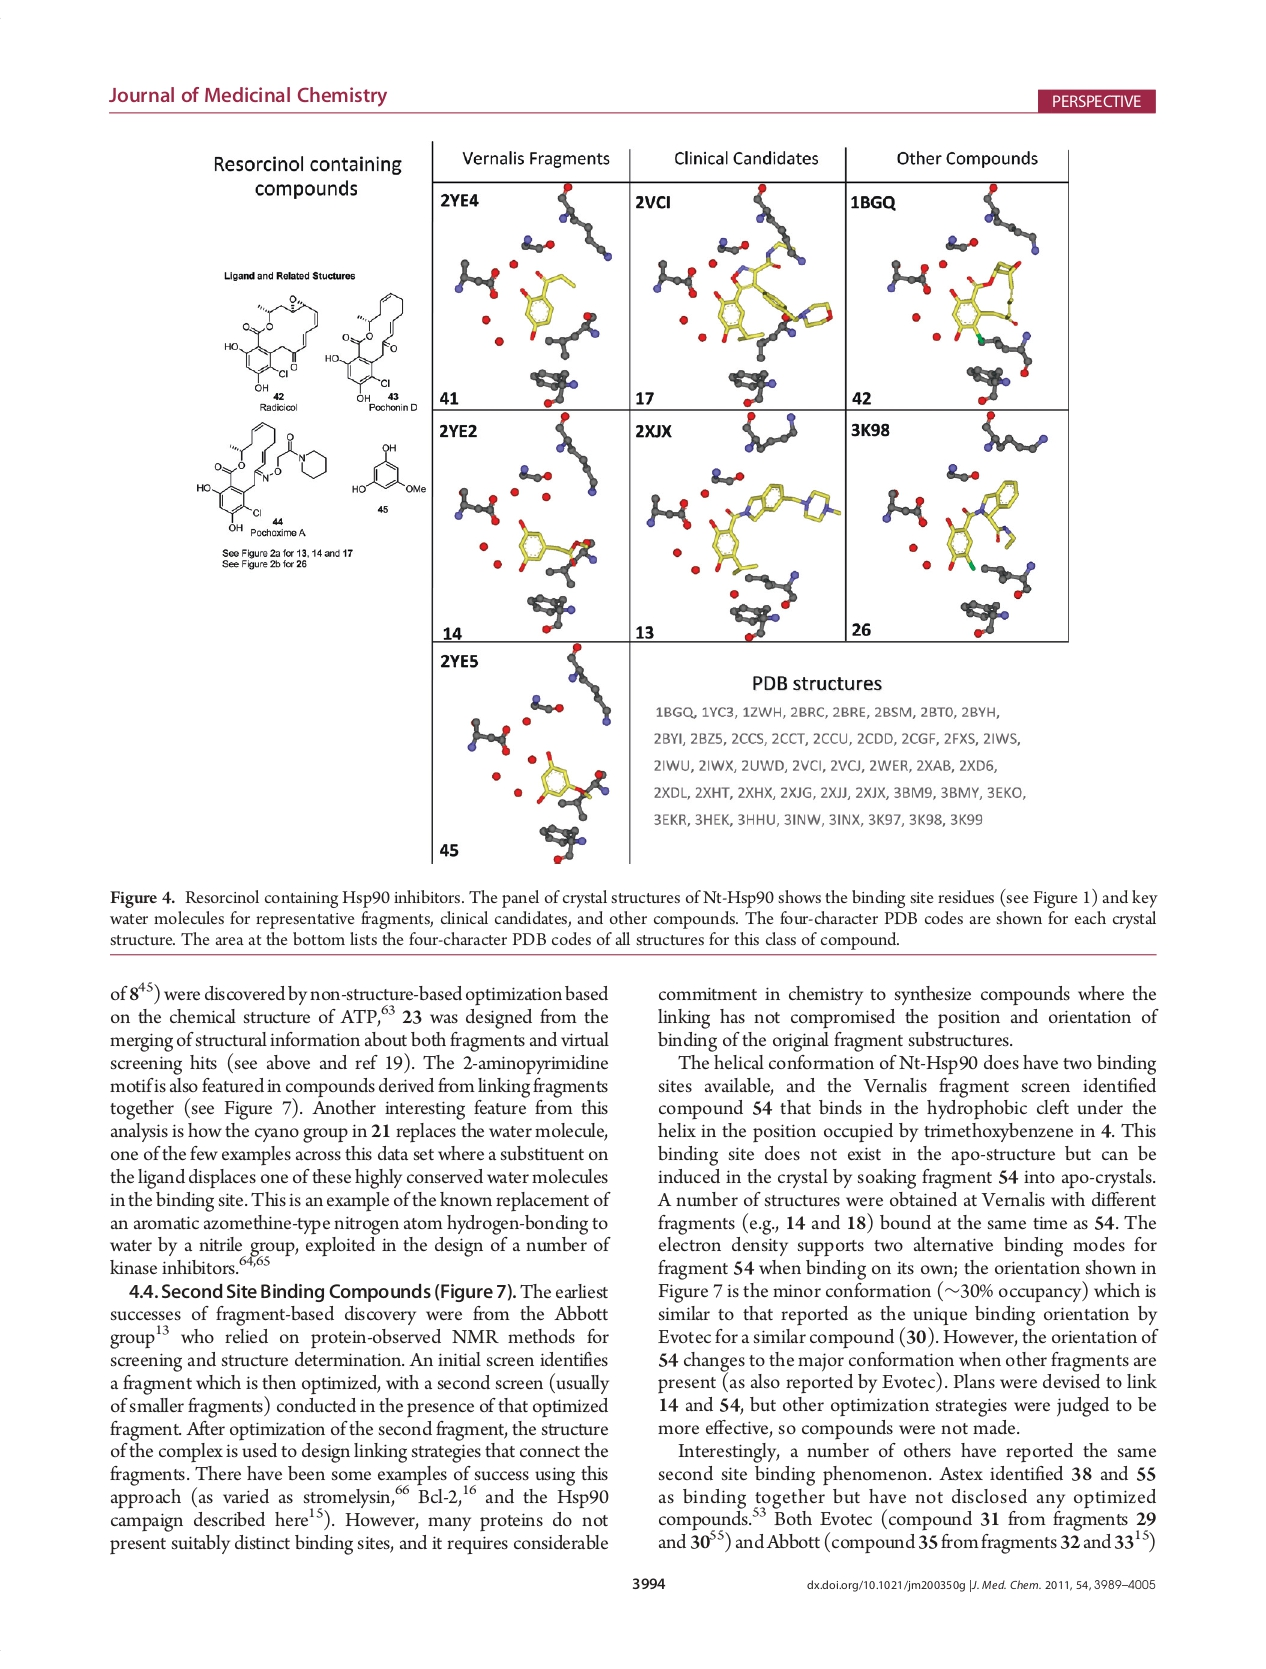exist_molecular: (193, 418, 328, 535), (219, 293, 320, 394), (322, 290, 406, 404), (351, 439, 428, 497)
